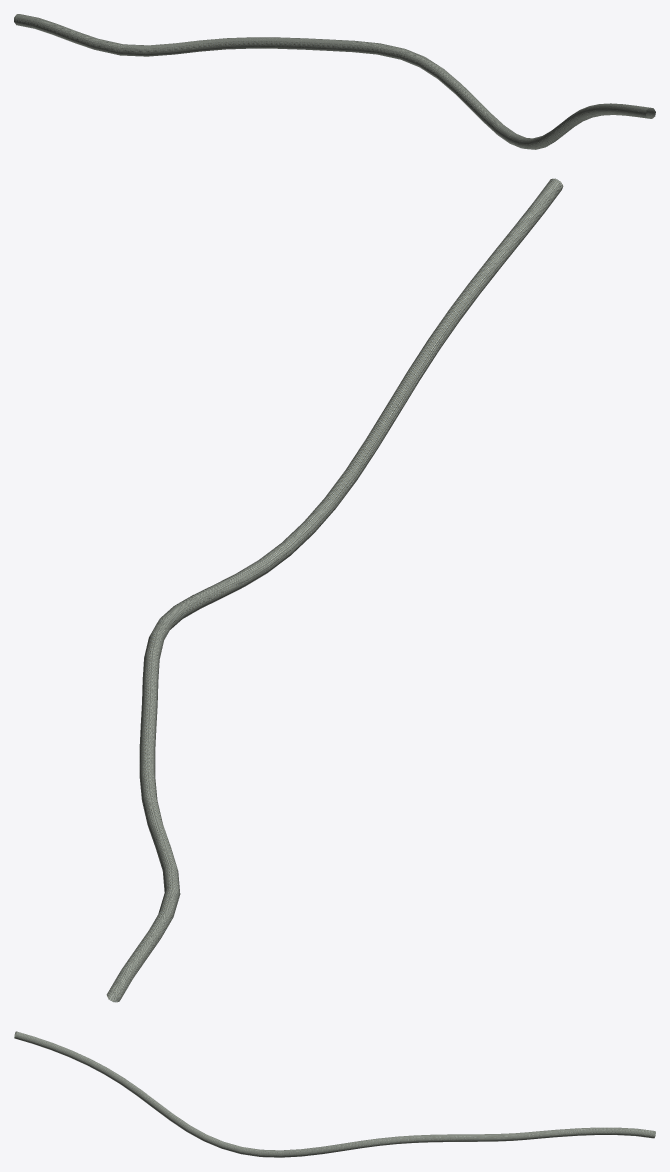
The model's file is microtubule38.fbx.
3 views of the same model, one above another, from view 1: azimuth 30°, elevation 25°; view 2: azimuth 150°, elevation 25°; view 3: azimuth 270°, elevation 25° (orthographic). The views are drawn at different scales.
Visible parts, largest first — view 1: microtubule38; view 2: microtubule38; view 3: microtubule38.
Part boxes in pixels (x1=…): microtubule38: x1=14, y1=14, x2=655, y2=149; microtubule38: x1=106, y1=178, x2=563, y2=1002; microtubule38: x1=14, y1=1031, x2=655, y2=1157.
Bounding box in the file's own units: 2879 × 3239 × 12168.
1 material, 1 textured.
